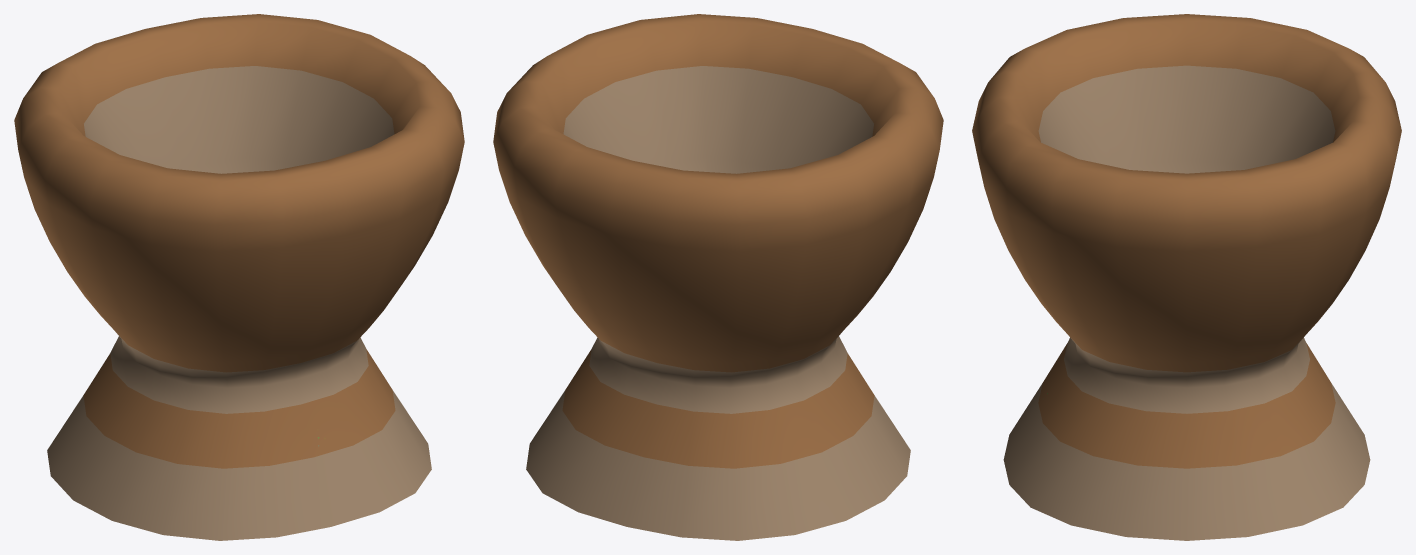
The model's file is Container_Pestle.fbx.
The picture shows the model from 3 angles, left to right: view 1: azimuth 30°, elevation 25°; view 2: azimuth 150°, elevation 25°; view 3: azimuth 270°, elevation 25°; orthographic projection.
Visible parts, largest first — view 1: Container_Pestle; view 2: Container_Pestle; view 3: Container_Pestle.
Part boxes in pixels (box(x1,y1,x2,y2)): Container_Pestle: box(14, 14, 464, 540); Container_Pestle: box(493, 14, 943, 540); Container_Pestle: box(972, 14, 1401, 540).
Size of the model in its own units: 17.77 by 15.77 by 16.96.
